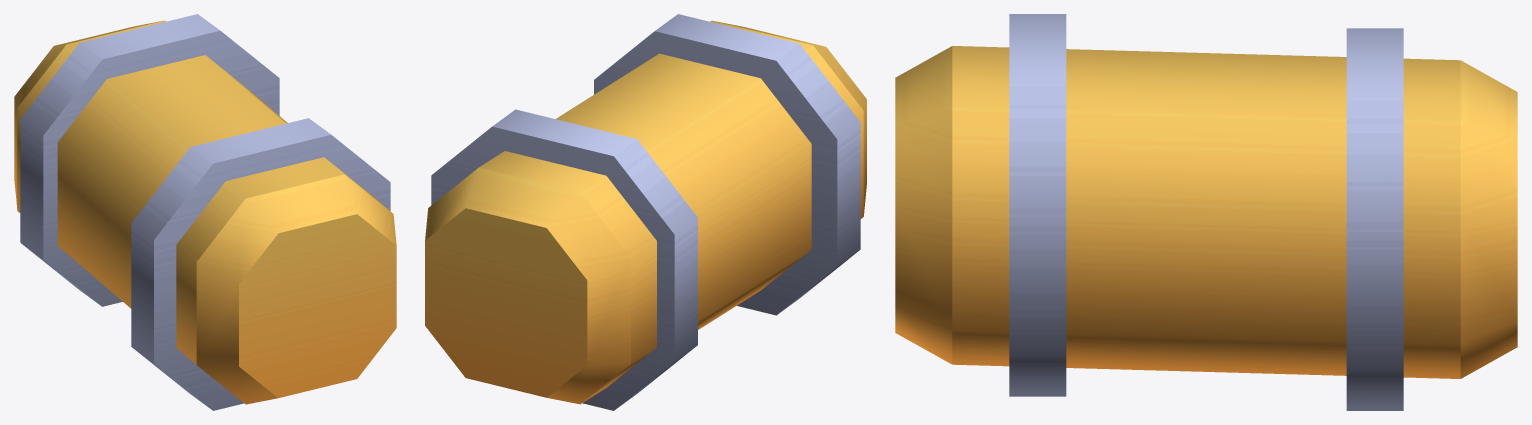
Rendered from container-flat.glb.
The picture shows the model from 3 angles, left to right: view 1: azimuth 30°, elevation 25°; view 2: azimuth 150°, elevation 25°; view 3: azimuth 270°, elevation 25°; orthographic projection. The views are drawn at different scales.
Visible parts, largest first — view 1: container-flat; view 2: container-flat; view 3: container-flat.
Part boxes in pixels (x1,y1,x2,y2): container-flat: (14,14,396,410); container-flat: (425,14,866,410); container-flat: (895,14,1517,410).
Bounding box in the file's own units: 0.6596 × 0.6 × 1.09.
1 material, 1 textured.
